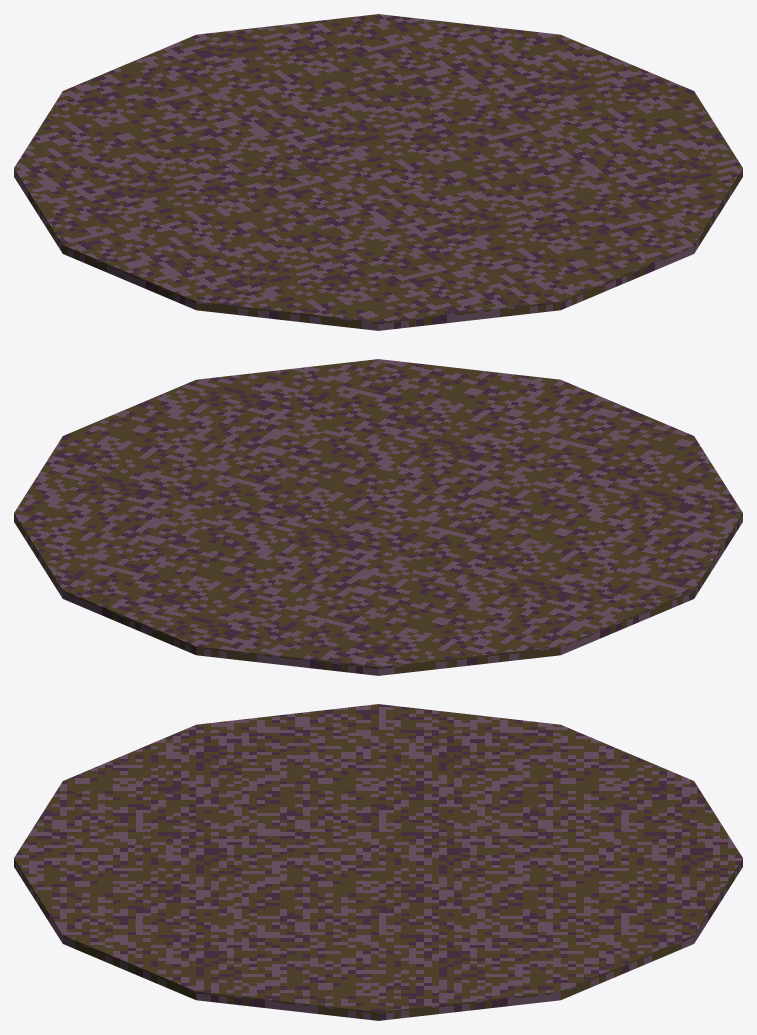
Rendered from a05_lamacal.glb.
The picture shows the model from 3 angles, top to bottom: view 1: azimuth 30°, elevation 25°; view 2: azimuth 150°, elevation 25°; view 3: azimuth 270°, elevation 25°; orthographic projection.
Visible parts, largest first — view 1: a05_lamacal; view 2: a05_lamacal; view 3: a05_lamacal.
Boxes of the visible parts, x1,y1,x2,y2 form: a05_lamacal: [14, 14, 742, 330]; a05_lamacal: [14, 359, 742, 675]; a05_lamacal: [14, 704, 742, 1020].
Bounding box in the file's own units: 6 × 0.08 × 6.
Materials: 1 (1 with a texture image).
